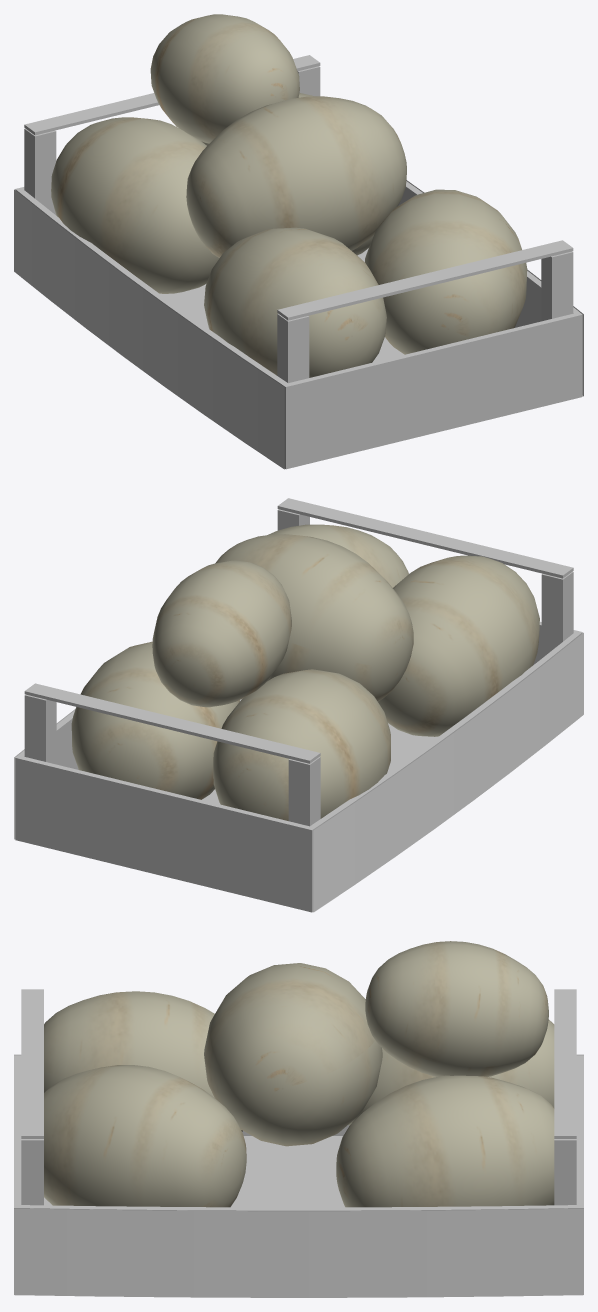
Rendered from KB3D_DMZ_FruitBox_D.fbx.
3 views of the same model, one above another, from view 1: azimuth 30°, elevation 25°; view 2: azimuth 150°, elevation 25°; view 3: azimuth 270°, elevation 25° (orthographic). The views are drawn at different scales.
Parts seen in each view (by area): view 1: KB3D_DMZ_FruitBox_D_Main; view 2: KB3D_DMZ_FruitBox_D_Main; view 3: KB3D_DMZ_FruitBox_D_Main.
Boxes of the visible parts, x1,y1,x2,y2 form: KB3D_DMZ_FruitBox_D_Main: [14, 14, 583, 469]; KB3D_DMZ_FruitBox_D_Main: [14, 498, 583, 912]; KB3D_DMZ_FruitBox_D_Main: [14, 941, 583, 1297].
Bounding box in the file's own units: 52.69 × 41.91 × 79.77.
